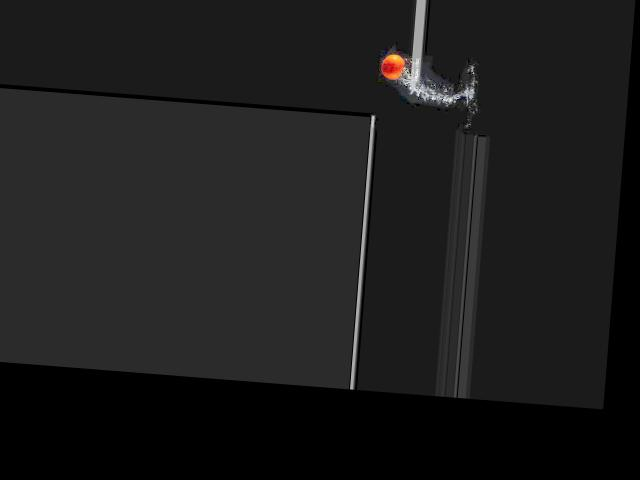tomato: (381, 53, 405, 80)
